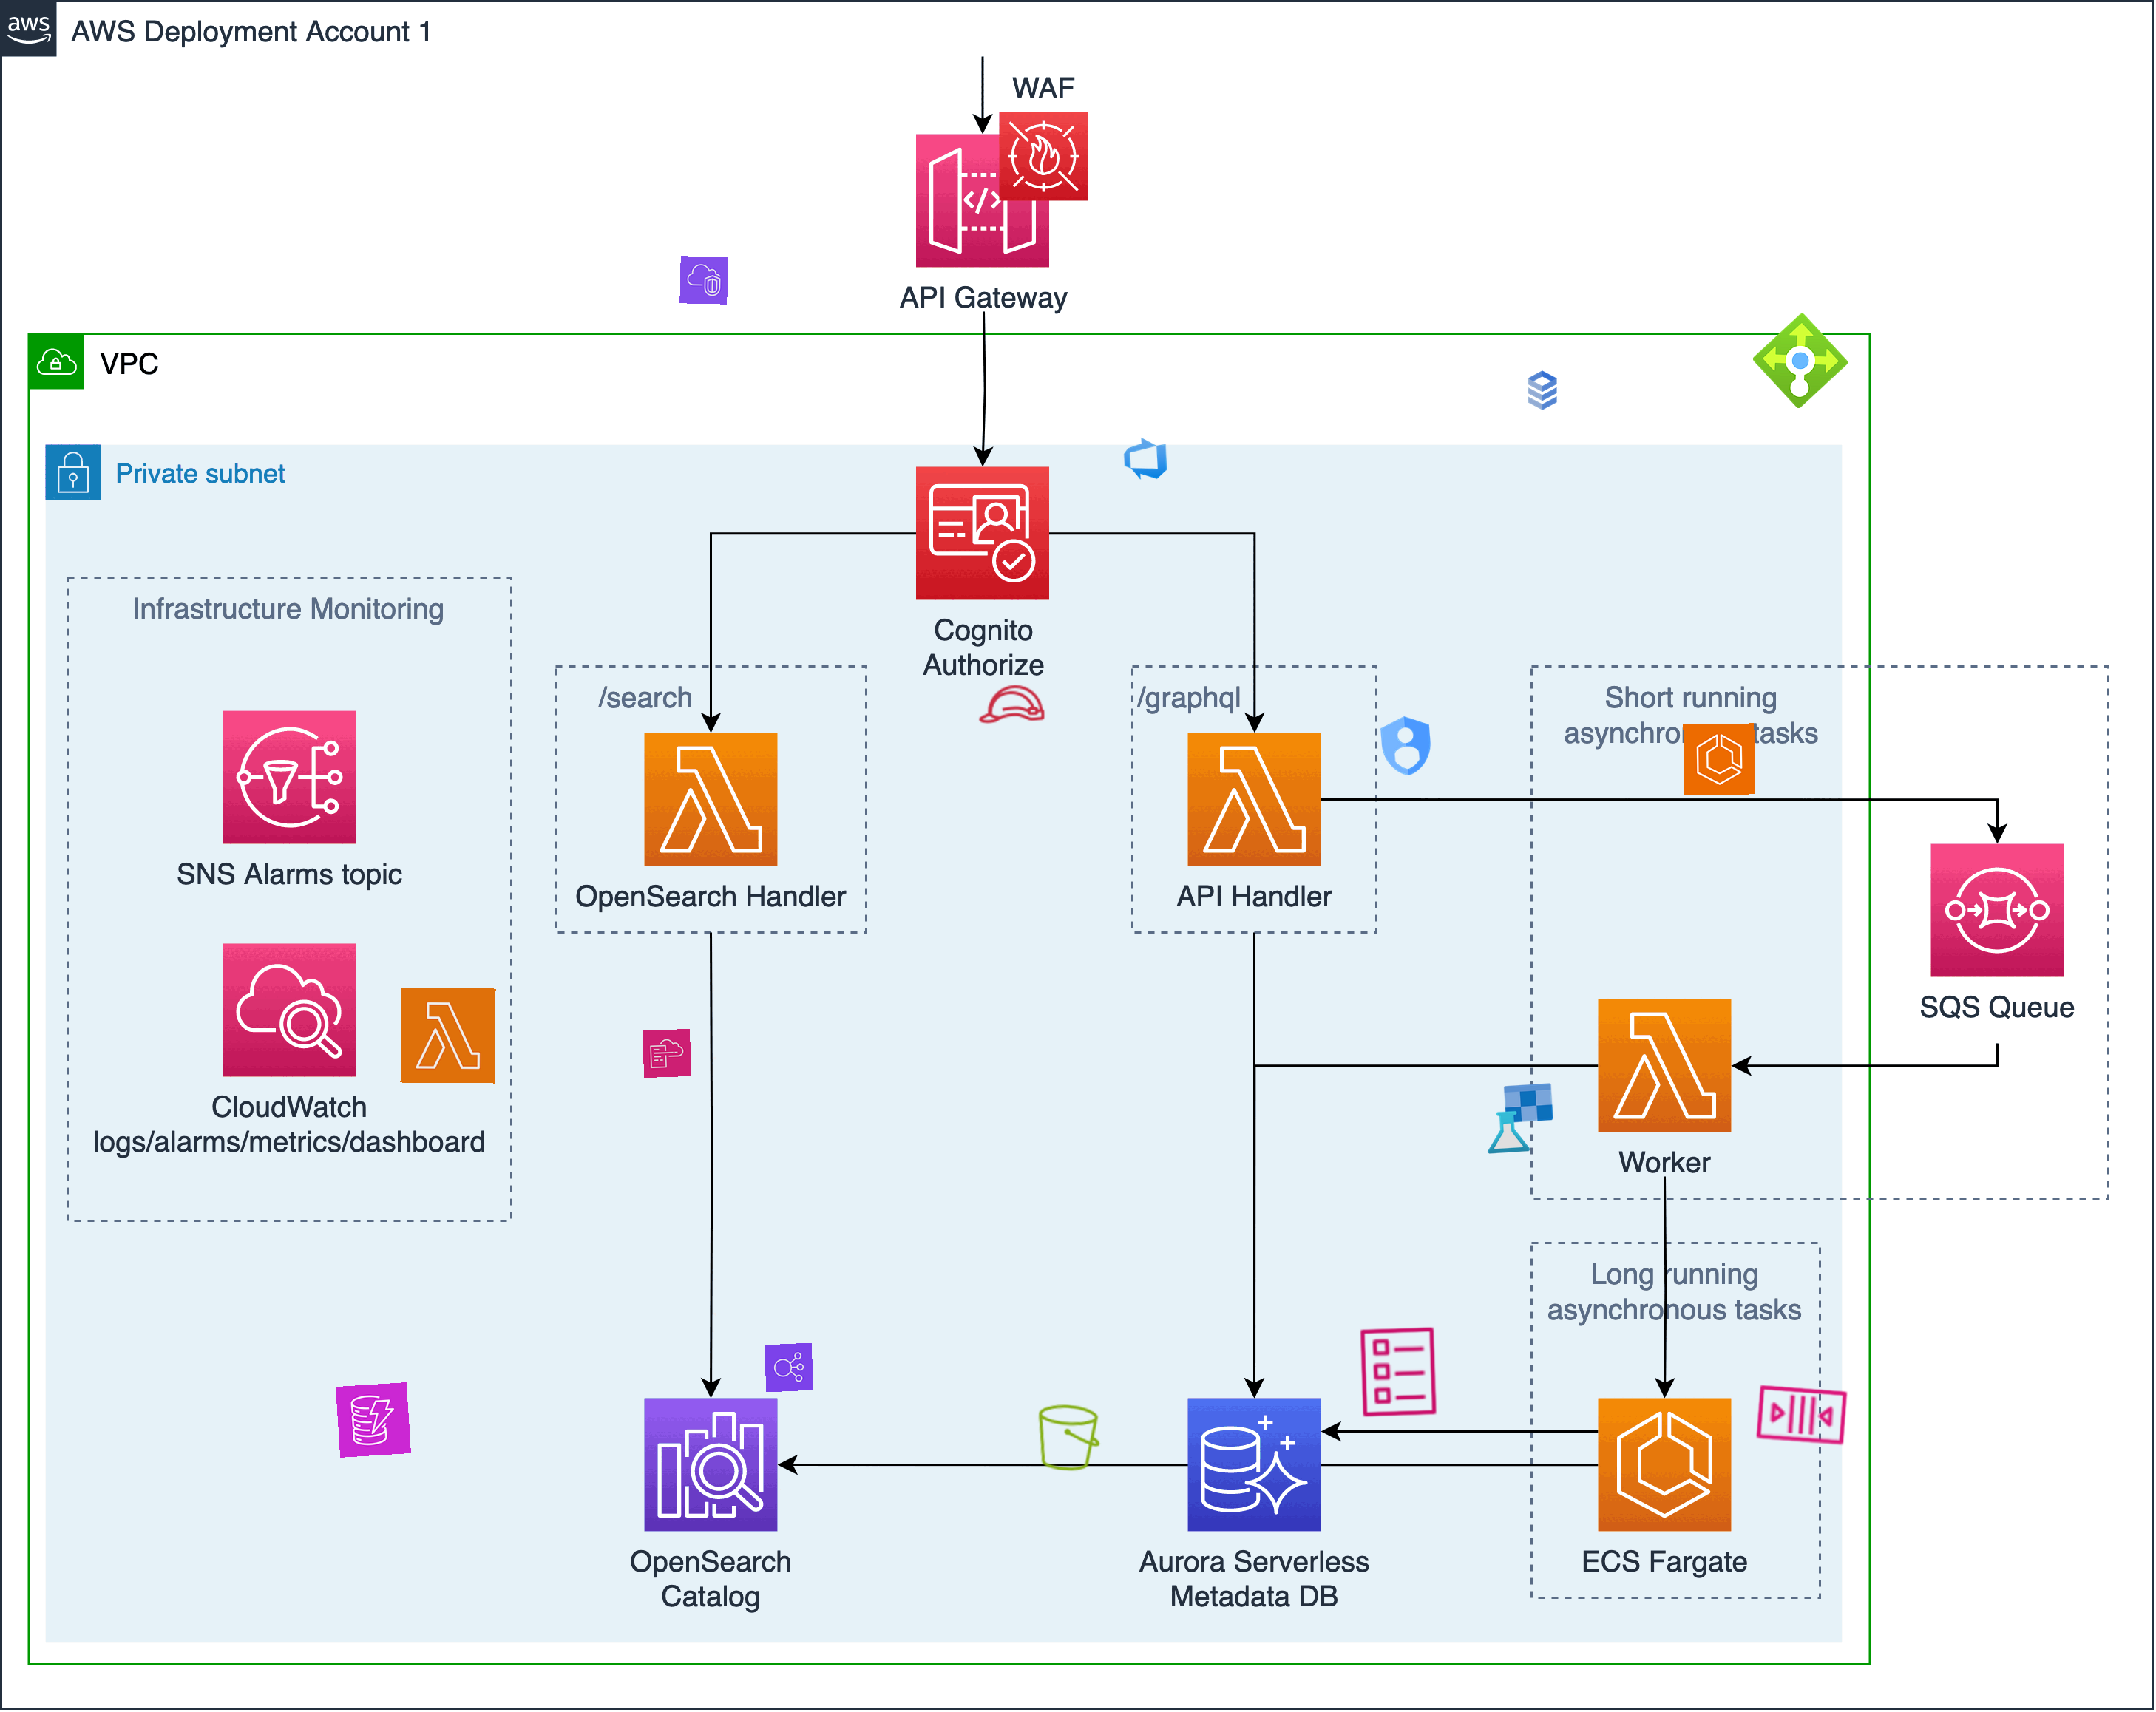aws_amazon_dynamodb: (336, 1381, 411, 1458)
aws_amazon_elastic_container_service: (1684, 722, 1755, 796)
aws_amazon_virtual_private_cloud: (679, 255, 728, 304)
aws_cloudformation: (642, 1028, 691, 1079)
aws_cloudformation_template: (1348, 1322, 1447, 1422)
aws_elastic_load_balancing: (763, 1343, 814, 1392)
aws_identity_access_management_role: (975, 668, 1048, 741)
aws_lambda: (401, 988, 495, 1084)
aws_simple_queue_service_queue: (1750, 1362, 1853, 1465)
aws_simple_storage_service_s3_standard: (1031, 1399, 1106, 1476)
azure_devops: (1120, 434, 1171, 483)
azure_load_balancers: (1750, 311, 1850, 411)
azure_machine_learning_studio_workspaces: (1482, 1081, 1557, 1156)
gcp_cloud_sql: (1517, 365, 1566, 414)
gcp_identity_and_access_management: (1369, 708, 1446, 783)
